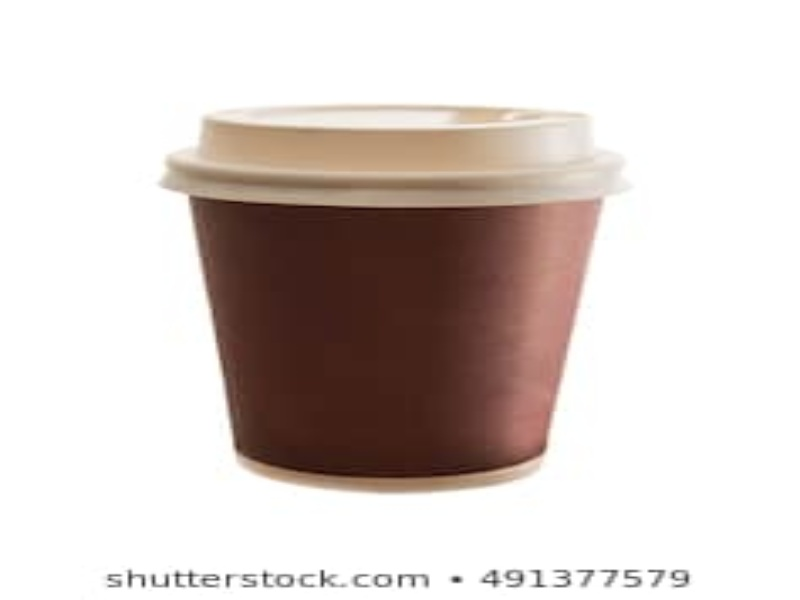coffee-lid: (156, 98, 637, 209)
